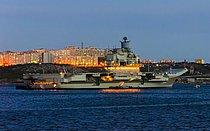MIL_Ship: (23, 36, 188, 87)
